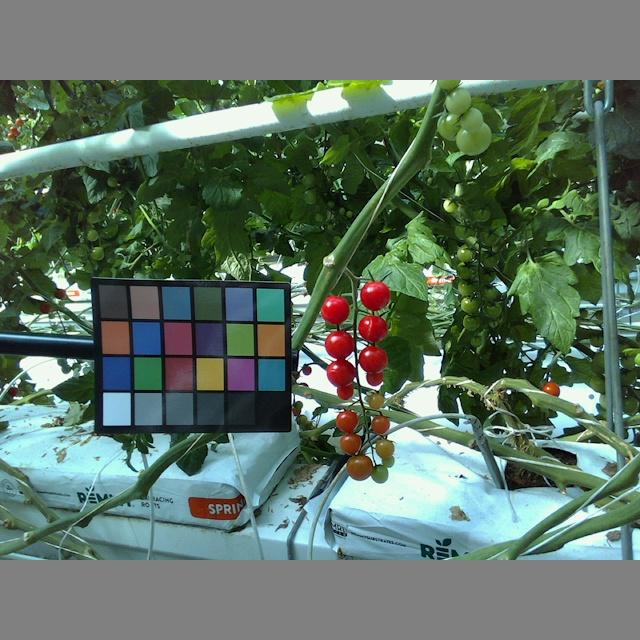green: (452, 118, 490, 154), (438, 111, 470, 141), (442, 87, 472, 114), (456, 109, 485, 133), (374, 437, 394, 457), (455, 243, 476, 262), (483, 299, 502, 319), (460, 293, 480, 311), (459, 278, 477, 297), (372, 461, 388, 482), (366, 392, 384, 410), (480, 281, 499, 298), (463, 312, 479, 331)
pink: (345, 454, 373, 481), (335, 408, 358, 432), (340, 433, 361, 456), (371, 416, 390, 433)
red: (358, 280, 391, 312), (318, 295, 349, 327), (356, 315, 390, 343), (325, 330, 355, 360), (325, 357, 356, 384), (358, 346, 387, 374), (335, 381, 355, 399), (365, 369, 383, 386)
